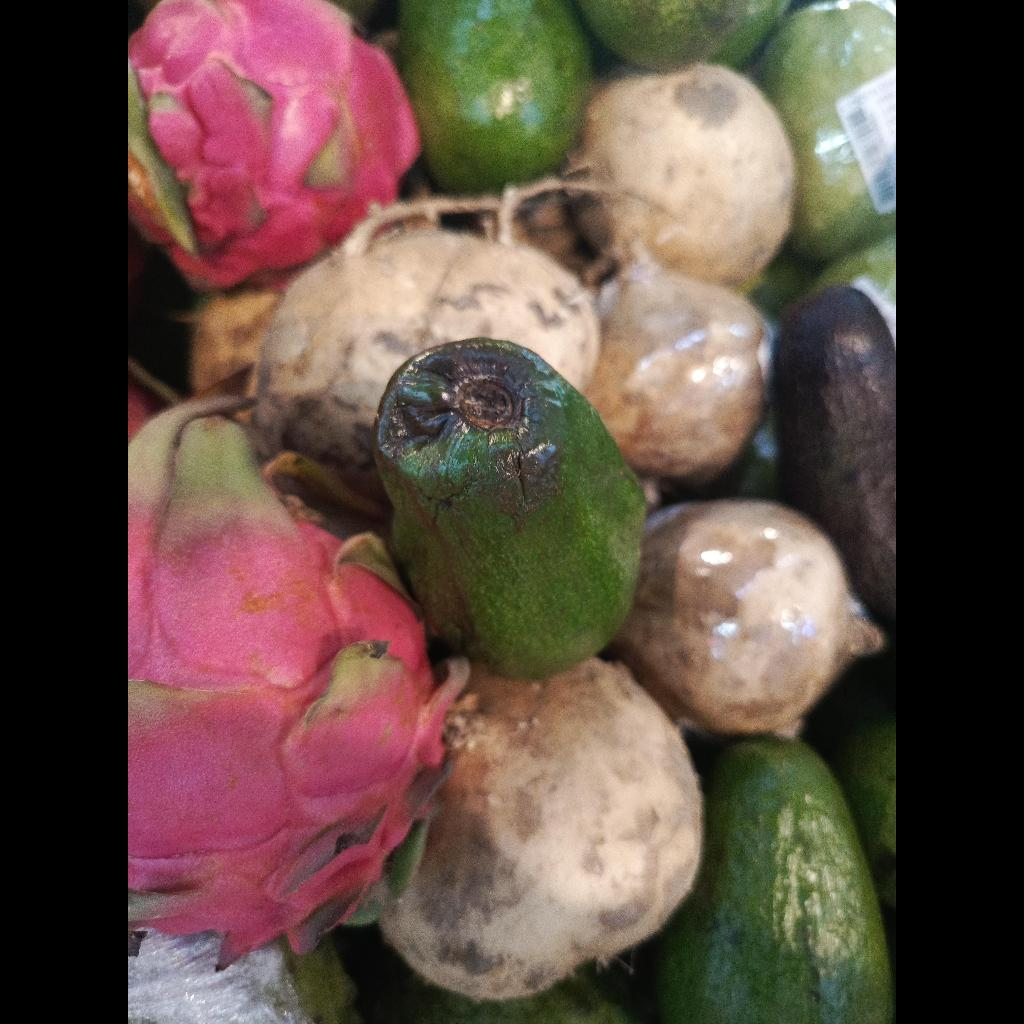stem end rot: (374, 338, 645, 679)
